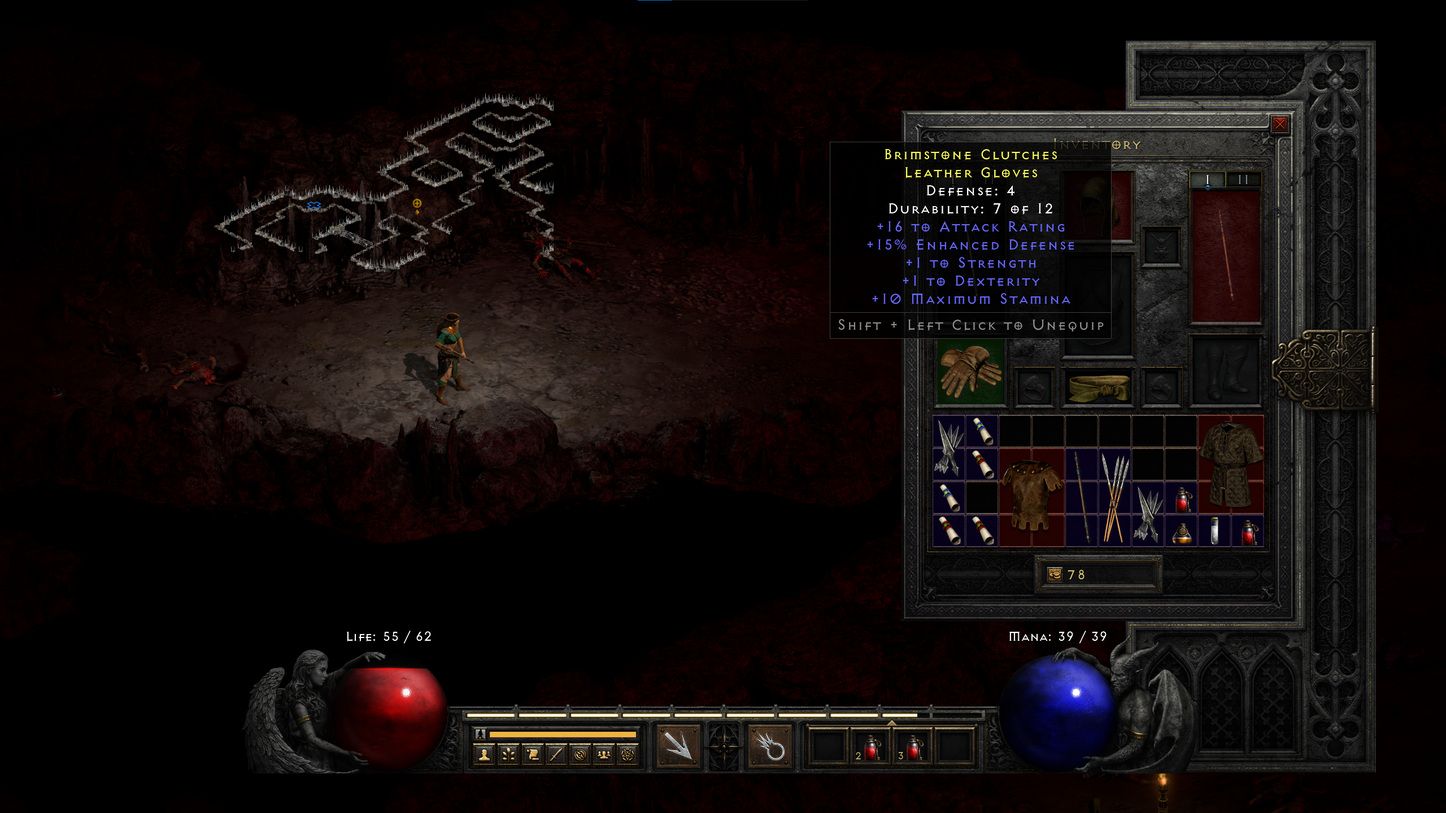tooltip: (829, 142, 1111, 339)
